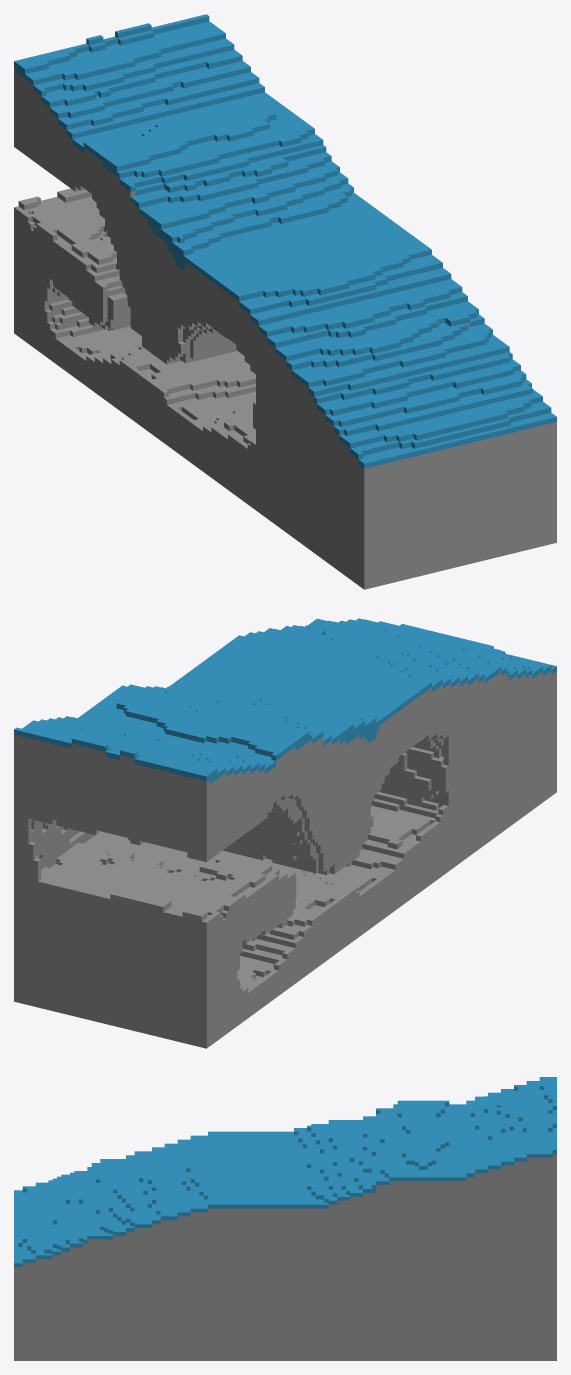
File: level 1 - Part 4 Naast.obj
3 renders of one model, top to bottom at view 1: azimuth 30°, elevation 25°; view 2: azimuth 150°, elevation 25°; view 3: azimuth 270°, elevation 25°, orthographic. The views are drawn at different scales.
Bounding box in the file's own units: 40 × 55 × 126.
Materials: 1 (1 with a texture image).
